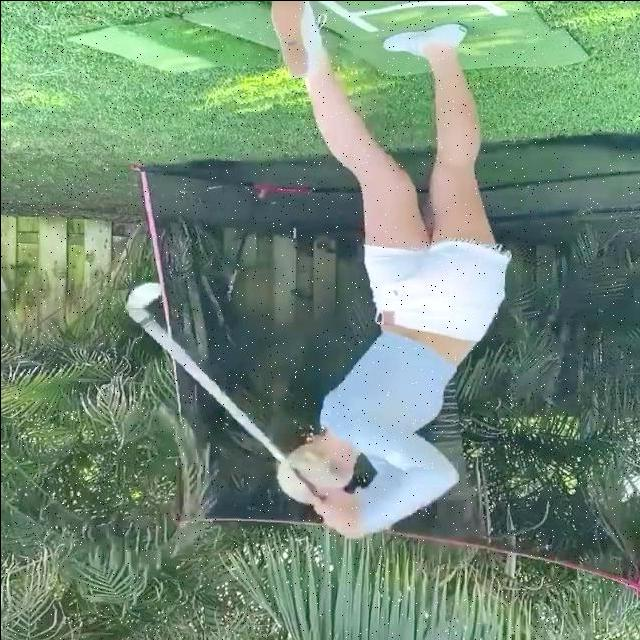golf club-handle: (121, 280, 325, 507)
golf club-head: (122, 279, 165, 311)
